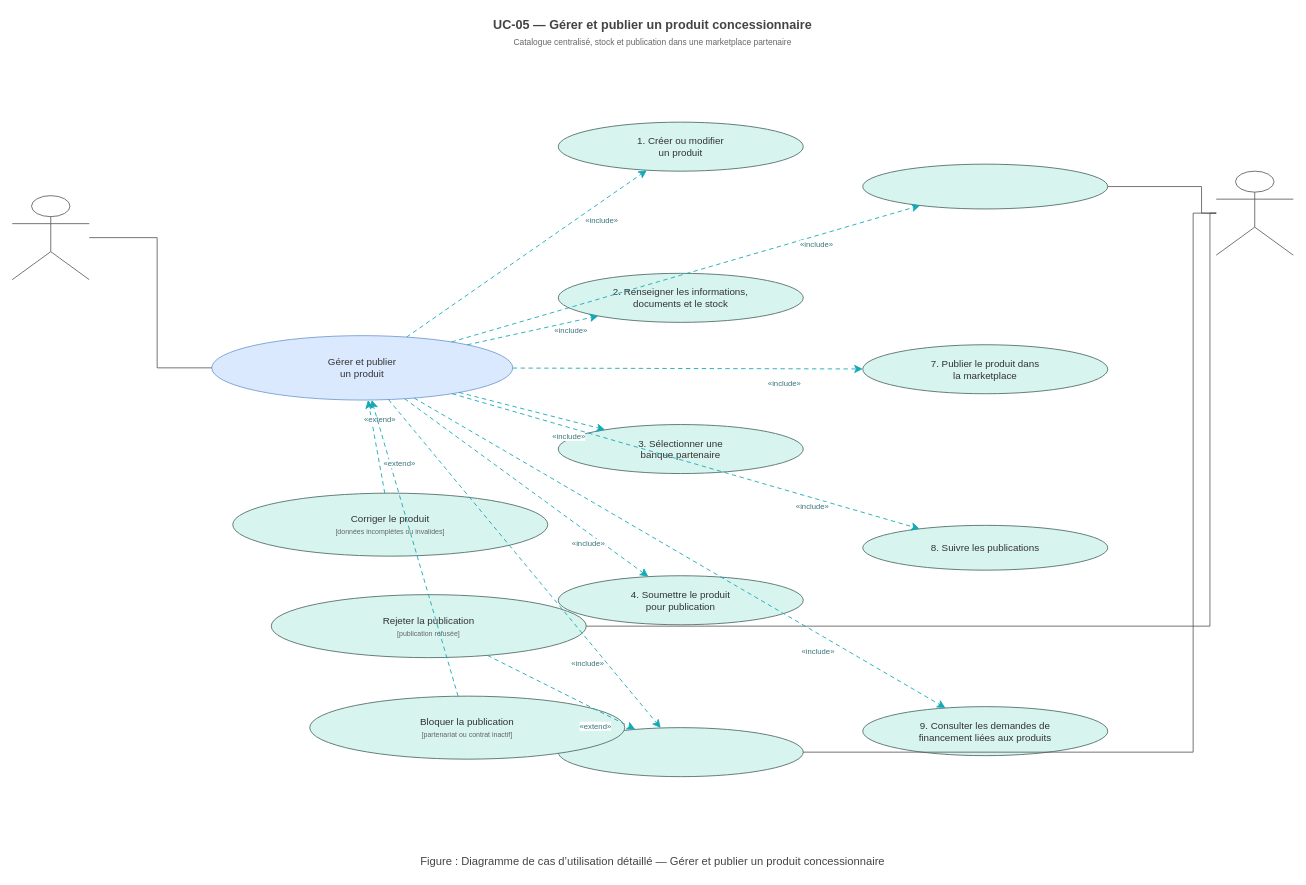
The diagram is 1306 pixels wide and 885 high, and some of its shapes have lost their labels. Each missing label, with the centre of its shape:
"5. Examiner la proposition de publication" belongs at pixel 680 752.
"6. Approuver la publication" belongs at pixel 985 186.
"Administrateur Banque «système externe»" belongs at pixel 1254 212.
"Concessionnaire" belongs at pixel 50 237.
